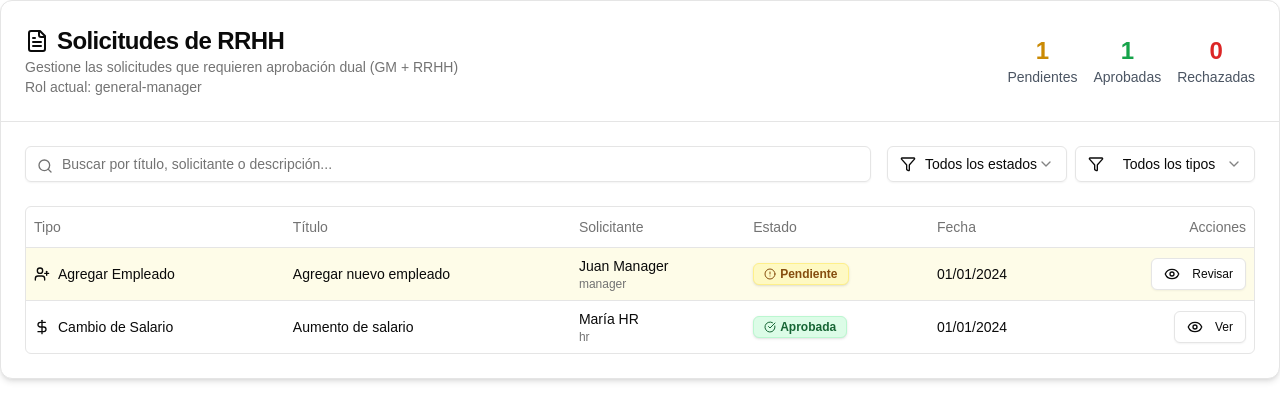
it: HRRequestsManager › should filter requests by search query
Check: the text "Agregar nuevo empleado" is shown, box x1=285 y1=247 x2=571 y2=300
Type "Agregar" into the field with placeholder "Buscar por título, solicitante o descripción...". click: (448, 164)
box: x1=25 y1=146 x2=871 y2=182
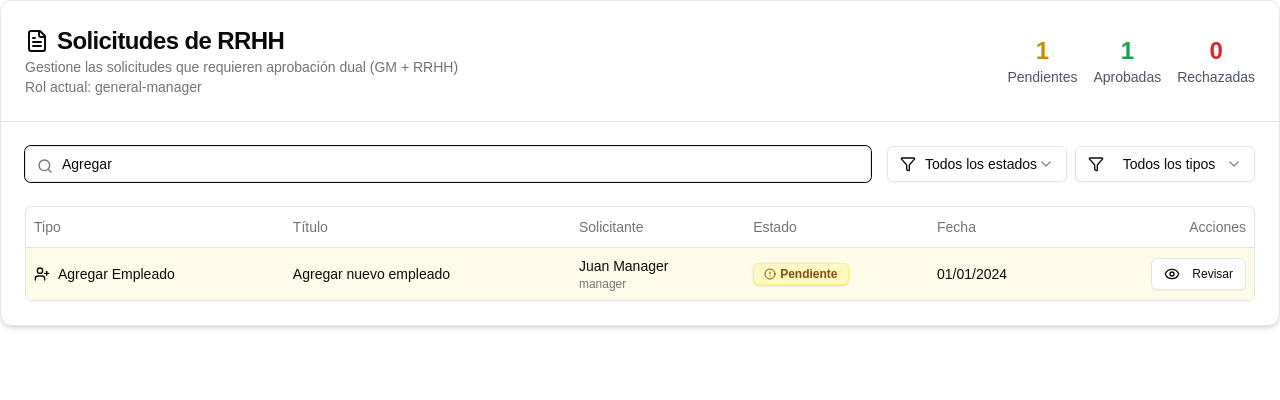
Check: the text "Agregar nuevo empleado" is shown, box x1=285 y1=247 x2=571 y2=300
Check: the text "Aumento de salario" is gone
